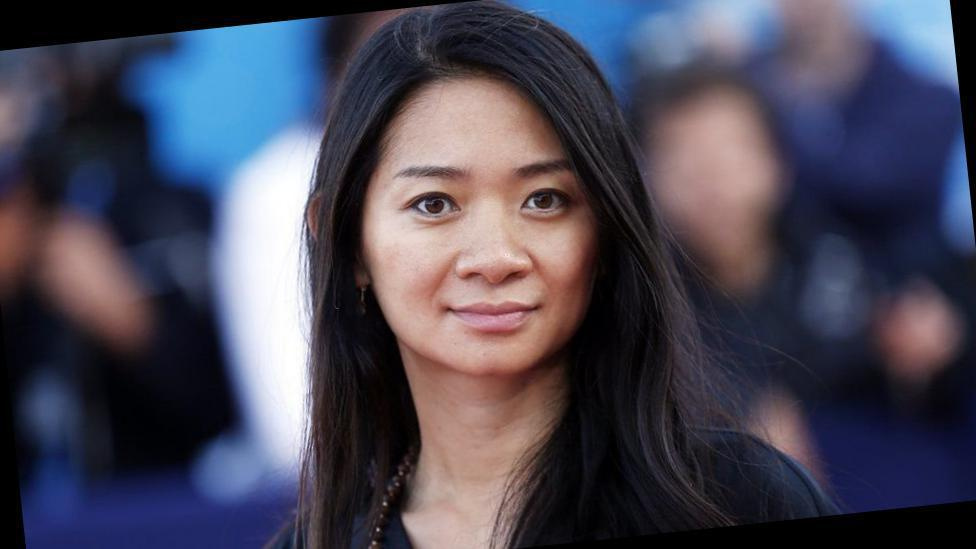Sober: (377, 99, 580, 360)
